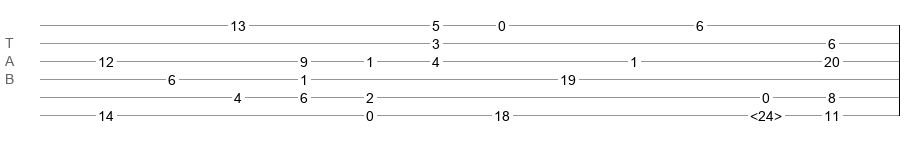0: (366, 108, 374, 118), (498, 18, 506, 28), (762, 90, 770, 100)
1: (300, 72, 308, 82), (366, 54, 374, 64), (630, 54, 638, 64)
11: (824, 108, 840, 118)
12: (98, 54, 114, 64)
13: (230, 18, 246, 28)
14: (98, 108, 114, 118)
18: (494, 108, 510, 118)
19: (560, 72, 576, 82)
2: (366, 90, 374, 100)
20: (824, 54, 840, 64)
3: (432, 36, 440, 46)
4: (234, 90, 242, 100), (432, 54, 440, 64)
5: (432, 18, 440, 28)
6: (168, 72, 176, 82), (300, 90, 308, 100), (696, 18, 704, 28), (828, 36, 836, 46)
8: (828, 90, 836, 100)
9: (300, 54, 308, 64)
harmonic: (750, 108, 782, 118)
